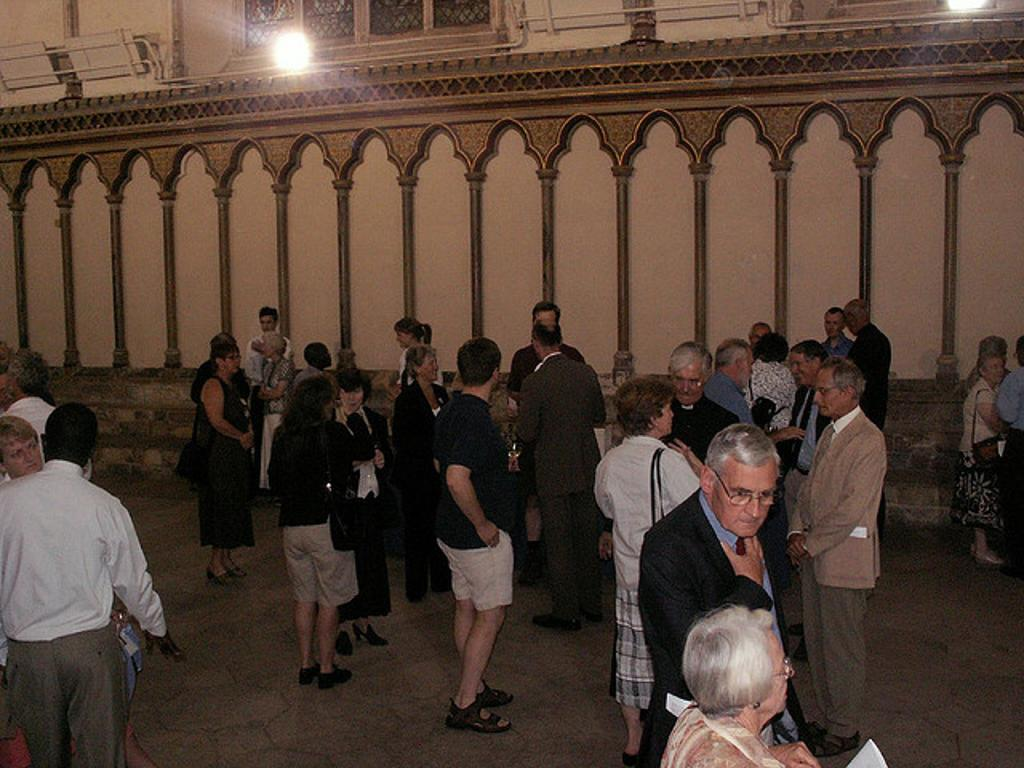face: (712, 465, 777, 537), (762, 625, 794, 712), (6, 435, 43, 479), (671, 364, 703, 403), (647, 395, 673, 432), (814, 369, 834, 414), (788, 354, 812, 388), (733, 348, 753, 384), (338, 384, 362, 410), (985, 359, 1003, 383), (421, 355, 437, 379), (842, 311, 858, 335), (751, 326, 769, 347), (824, 314, 841, 336), (224, 349, 240, 372), (992, 344, 1008, 367), (316, 346, 331, 365), (259, 313, 273, 332), (395, 327, 408, 347), (262, 339, 275, 358)
